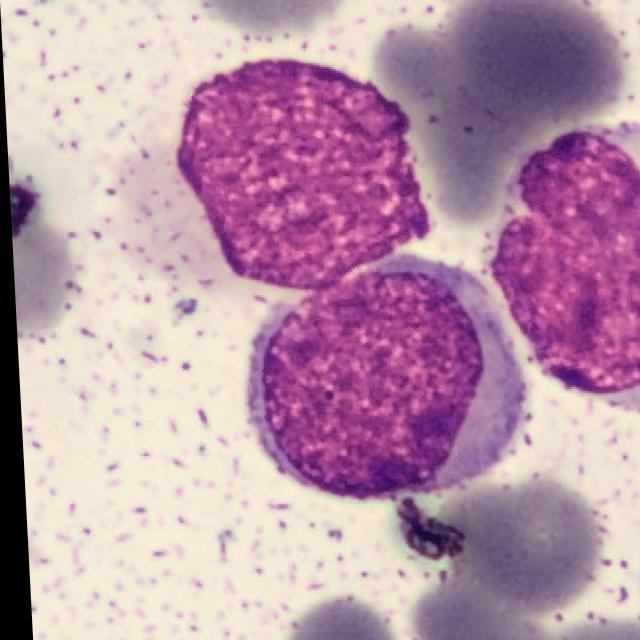Mieloblasto: (244, 259, 526, 504), (487, 123, 640, 410)
Restos celulares: (175, 59, 430, 293)
